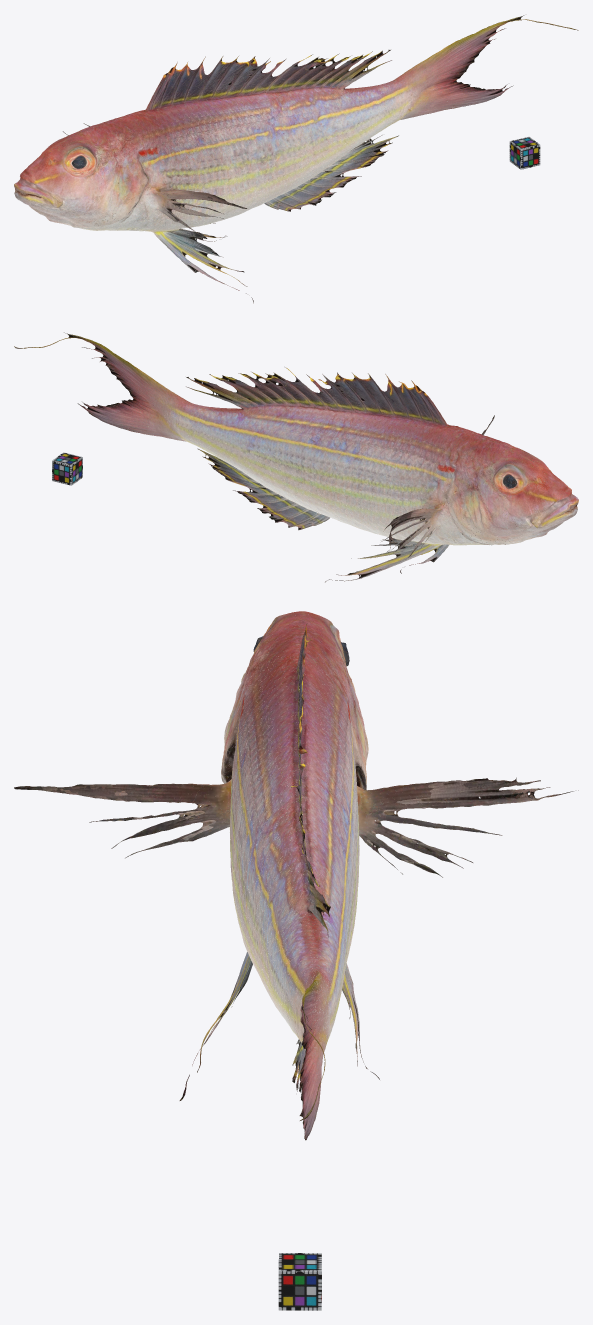
File: itoyoridai-174c40b96120.glb
3 views of the same model, one above another, from view 1: azimuth 30°, elevation 25°; view 2: azimuth 150°, elevation 25°; view 3: azimuth 270°, elevation 25° (orthographic). The views are drawn at different scales.
Visible parts, largest first — view 1: Q11489-1all-1_5, Cube_2; view 2: Q11489-1all-1_5, Cube_2; view 3: Q11489-1all-1_5, Cube_2.
Boxes of the visible parts, x1,y1,x2,y2 form: Q11489-1all-1_5: (14,15,578,303); Cube_2: (509,136,540,169); Q11489-1all-1_5: (14,332,578,582); Cube_2: (52,452,82,485); Q11489-1all-1_5: (14,611,578,1140); Cube_2: (278,1253,321,1310).
Size of the model in its own units: 17.17 by 6.65 by 7.78.
3 materials, 3 textured.
